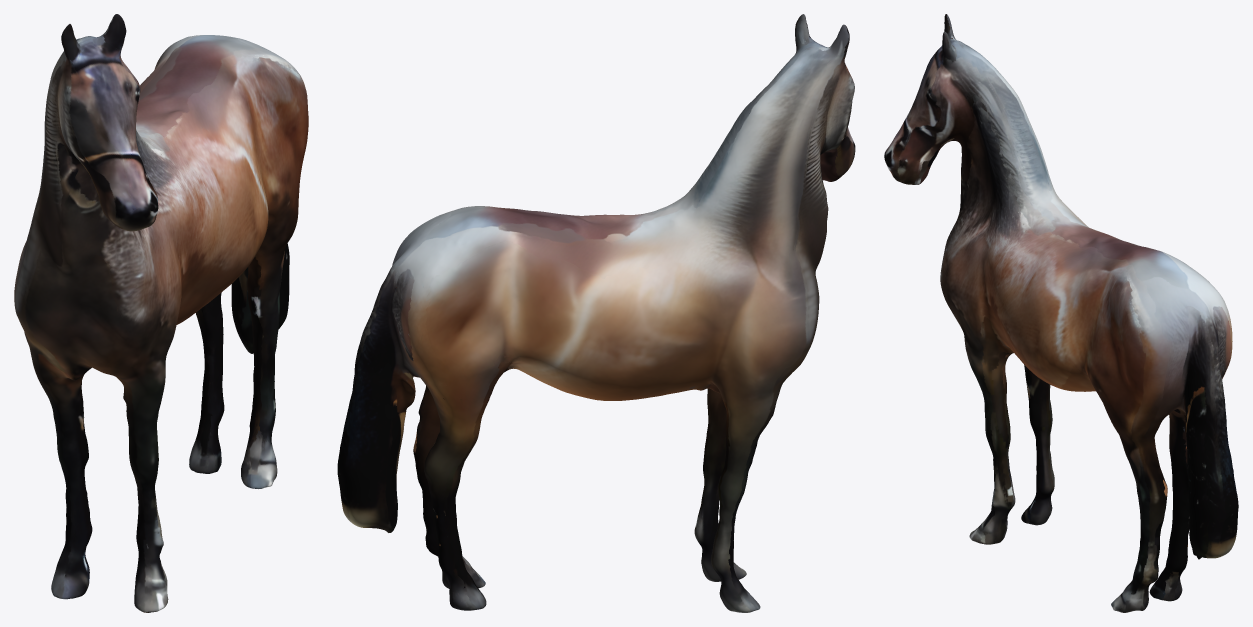
Rendered from adulto.glb.
3 renders of one model, left to right at view 1: azimuth 30°, elevation 25°; view 2: azimuth 150°, elevation 25°; view 3: azimuth 270°, elevation 25°, orthographic. The views are drawn at different scales.
Parts seen in each view (by area): view 1: mesh; view 2: mesh; view 3: mesh.
Boxes of the visible parts, bbox=[...] form: mesh: bbox=[14, 14, 308, 612]; mesh: bbox=[337, 14, 855, 612]; mesh: bbox=[884, 14, 1238, 612].
Bounding box in the file's own units: 1.05 × 1.58 × 1.05.
1 material, 1 textured.
